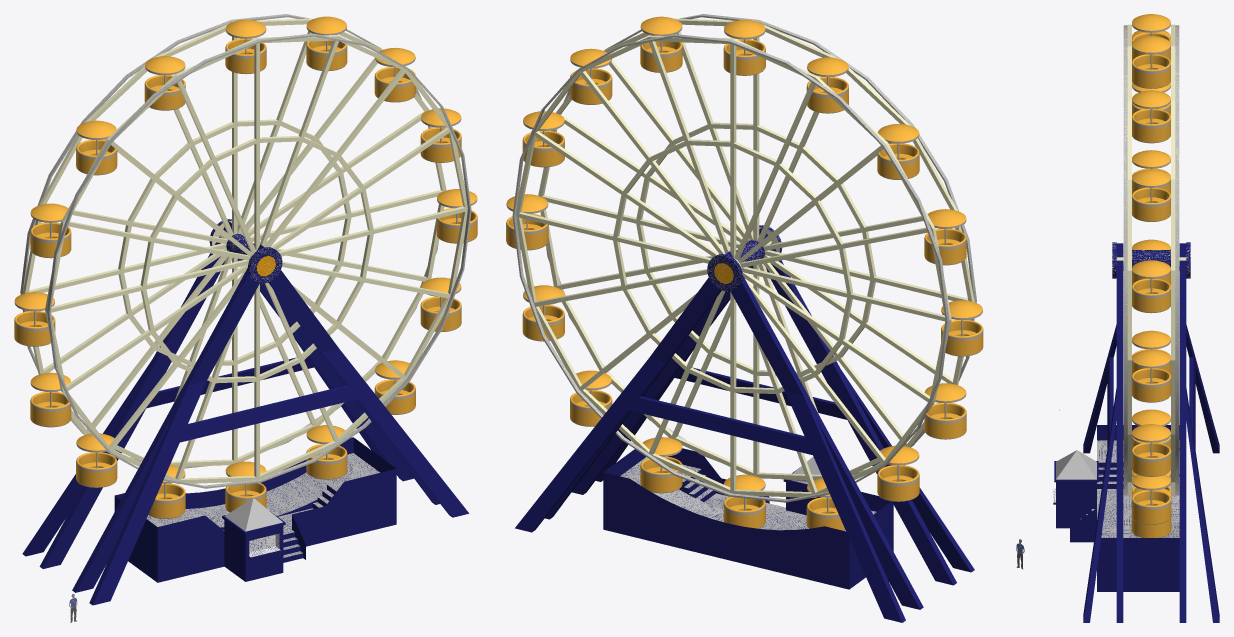
Rendered from gigantic_ride.dae.
3 renders of one model, left to right at view 1: azimuth 30°, elevation 25°; view 2: azimuth 150°, elevation 25°; view 3: azimuth 270°, elevation 25°, orthographic. The views are drawn at different scales.
Parts seen in each view (by area): view 1: Componente_3 (×8), Componente_1 (×2), Componente_2 (×3), Gôndola (×2); view 2: Componente_3 (×8), Componente_1 (×2), Componente_2 (×3); view 3: Gôndola (×27), Componente_1 (×2), Componente_2 (×5), Componente_3 (×6).
Boxes of the visible parts, x1,y1,x2,y2 form: Componente_3 (×8): [20, 14, 471, 488]; Componente_1 (×2): [22, 221, 468, 605]; Componente_2 (×3): [114, 437, 396, 582]; Gôndola (×2): [30, 404, 117, 487]; Componente_3 (×8): [512, 14, 976, 502]; Componente_1 (×2): [515, 227, 974, 622]; Componente_2 (×3): [603, 448, 893, 589]; Gôndola (×27): [1131, 14, 1171, 537]; Componente_1 (×2): [1083, 243, 1219, 622]; Componente_2 (×5): [1054, 425, 1179, 591]; Componente_3 (×6): [1123, 24, 1179, 496].
Bounding box in the file's own units: 1207 × 392 × 1287.
